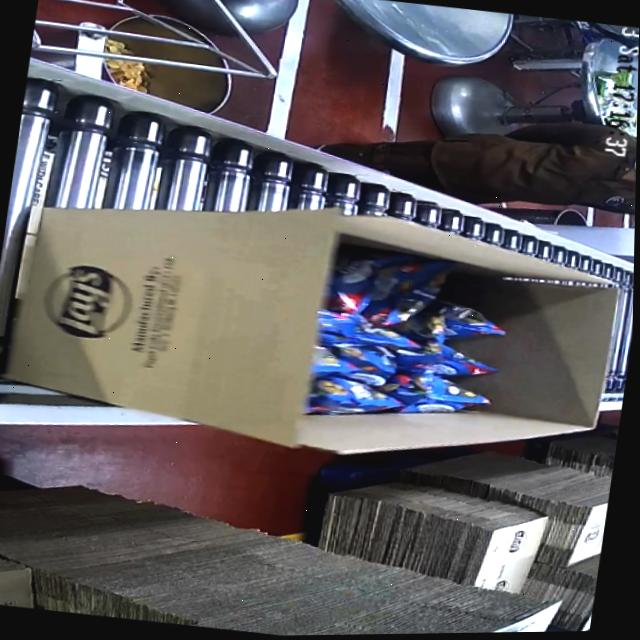PAPRIKA: (308, 243, 526, 442)
